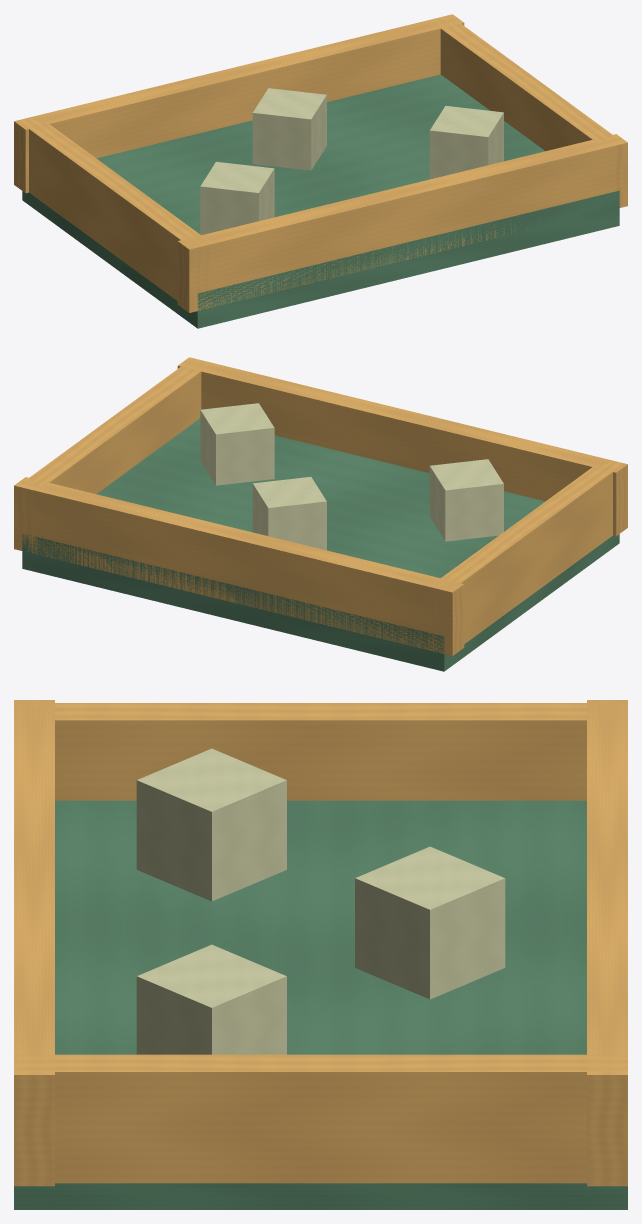
File: atlas100-s008-a04.lod2.glb
The picture shows the model from 3 angles, top to bottom: view 1: azimuth 30°, elevation 25°; view 2: azimuth 150°, elevation 25°; view 3: azimuth 270°, elevation 25°; orthographic projection. The views are drawn at different scales.
Parts seen in each view (by area): view 1: atlas100-s008-a04:part-000, atlas100-s008-a04:part-002, atlas100-s008-a04:part-001, atlas100-s008-a04:part-003, atlas100-s008-a04:part-004, atlas100-s008-a04:part-006, atlas100-s008-a04:part-010, atlas100-s008-a04:part-008; view 2: atlas100-s008-a04:part-000, atlas100-s008-a04:part-001, atlas100-s008-a04:part-002, atlas100-s008-a04:part-003, atlas100-s008-a04:part-004, atlas100-s008-a04:part-010, atlas100-s008-a04:part-008, atlas100-s008-a04:part-006; view 3: atlas100-s008-a04:part-000, atlas100-s008-a04:part-004, atlas100-s008-a04:part-003, atlas100-s008-a04:part-001, atlas100-s008-a04:part-002, atlas100-s008-a04:part-006, atlas100-s008-a04:part-008, atlas100-s008-a04:part-010.
Boxes of the visible parts, x1,y1,x2,y2 form: atlas100-s008-a04:part-000: [22, 74, 619, 328]; atlas100-s008-a04:part-002: [177, 134, 627, 312]; atlas100-s008-a04:part-001: [14, 14, 464, 193]; atlas100-s008-a04:part-003: [17, 118, 212, 311]; atlas100-s008-a04:part-004: [430, 15, 624, 207]; atlas100-s008-a04:part-006: [252, 88, 326, 170]; atlas100-s008-a04:part-010: [429, 105, 503, 179]; atlas100-s008-a04:part-008: [200, 161, 274, 235]; atlas100-s008-a04:part-000: [22, 418, 619, 671]; atlas100-s008-a04:part-001: [14, 477, 464, 655]; atlas100-s008-a04:part-002: [177, 357, 627, 536]; atlas100-s008-a04:part-003: [429, 461, 624, 652]; atlas100-s008-a04:part-004: [17, 358, 211, 554]; atlas100-s008-a04:part-010: [200, 403, 274, 485]; atlas100-s008-a04:part-008: [429, 459, 503, 541]; atlas100-s008-a04:part-006: [252, 477, 326, 550]; atlas100-s008-a04:part-000: [14, 800, 627, 1209]; atlas100-s008-a04:part-004: [14, 1054, 627, 1183]; atlas100-s008-a04:part-003: [14, 703, 627, 800]; atlas100-s008-a04:part-001: [587, 700, 627, 1186]; atlas100-s008-a04:part-002: [14, 700, 54, 1186]; atlas100-s008-a04:part-006: [355, 846, 505, 999]; atlas100-s008-a04:part-008: [136, 748, 286, 901]; atlas100-s008-a04:part-010: [136, 944, 286, 1054].
Size of the model in its own units: 1.39 by 0.2619 by 0.9621.
Materials: 3 (3 with a texture image).
